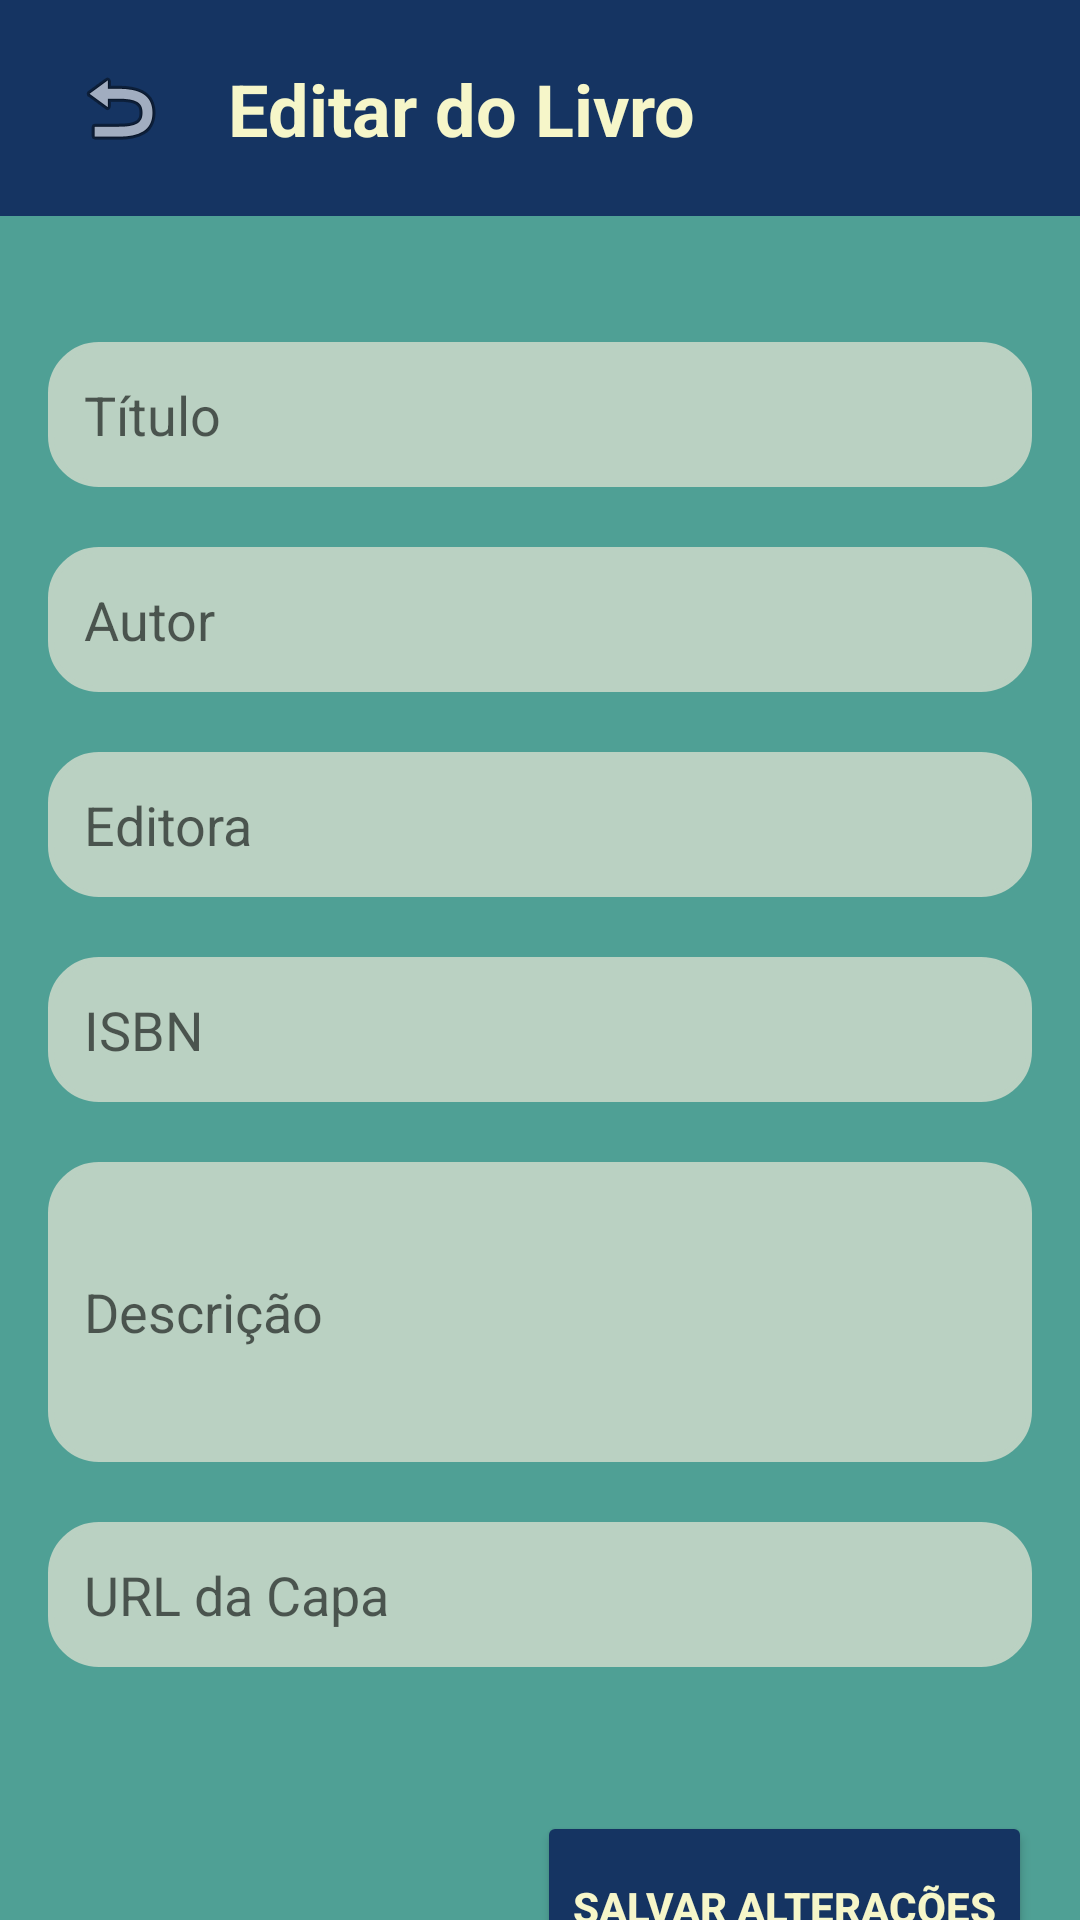

Point at icon controls on the screen. Image size 1080px x 1920px, points as (x,y).
Voltar: (121,109)
